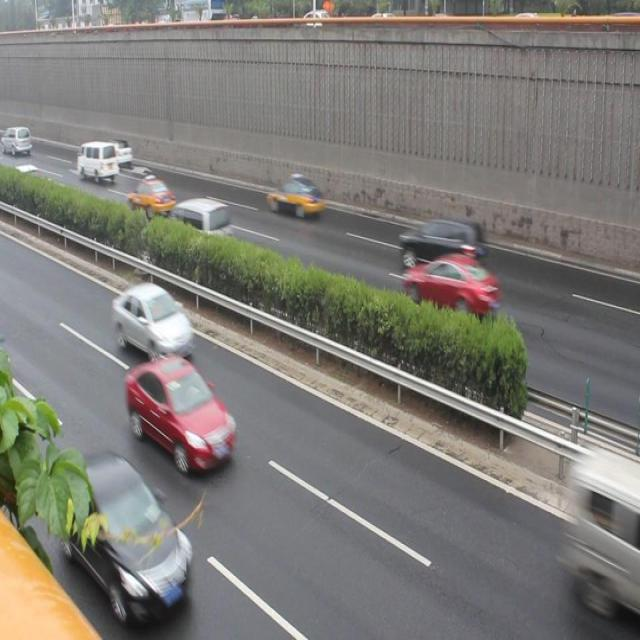car: (54, 445, 191, 619), (126, 351, 237, 466), (111, 277, 196, 364), (398, 250, 498, 320), (397, 212, 482, 277), (264, 170, 320, 225), (126, 170, 172, 218)
truck: (169, 190, 233, 251)
